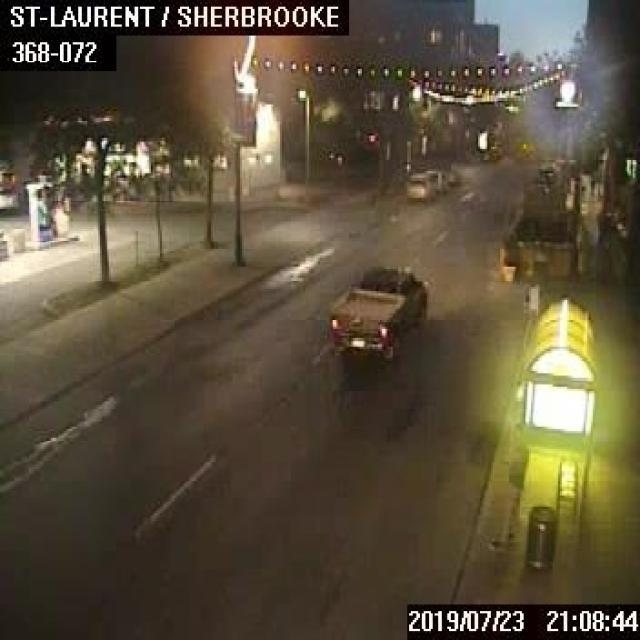vehicle: (327, 264, 426, 356), (404, 172, 434, 200), (424, 168, 448, 191)
